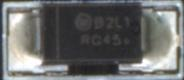diode: (37, 2, 150, 77)
